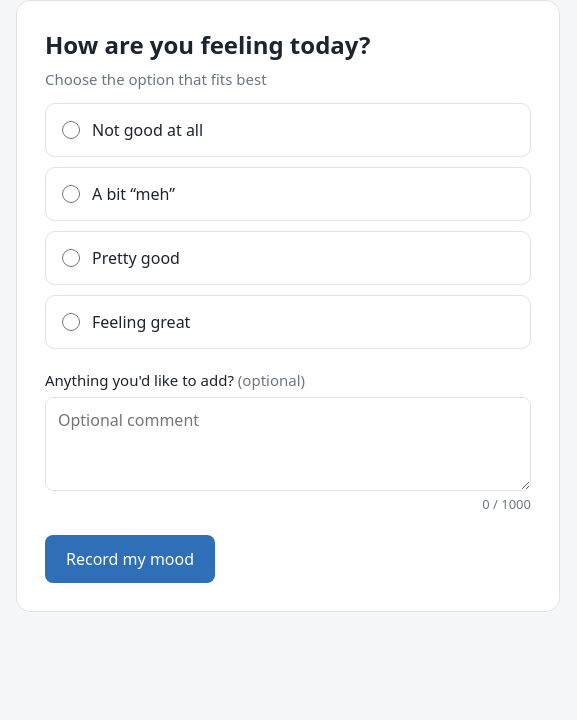
Test: MoodTrackerComponent › reports a connection failure in plain language
Click the radio button with class "option__input" showing "Feeling great" at (71, 322), box [62,313,80,331]
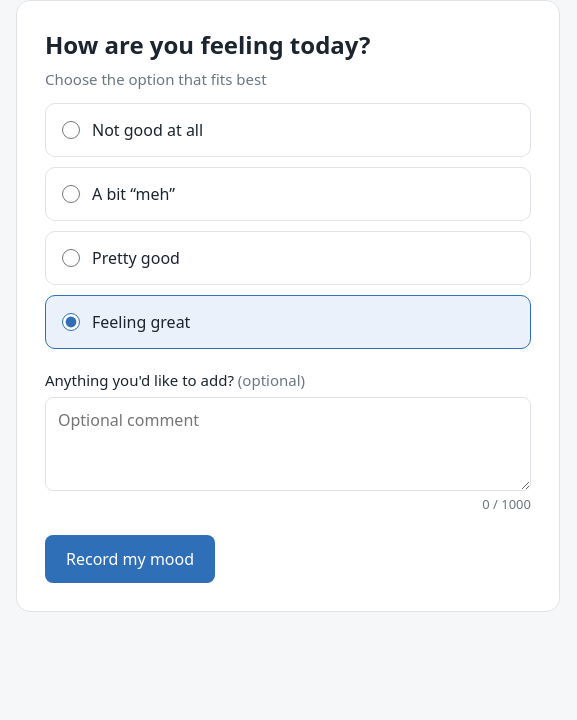
Submit the form
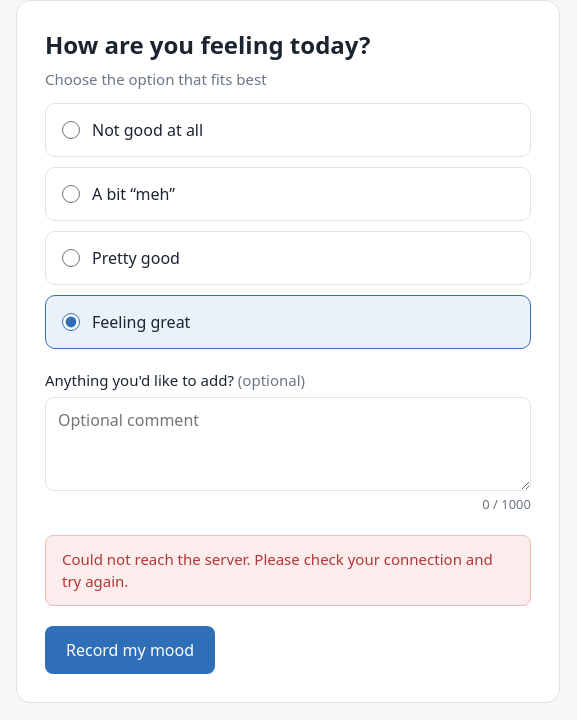
Result: the text "Could not reach the server" is shown at [62,549,493,591]
